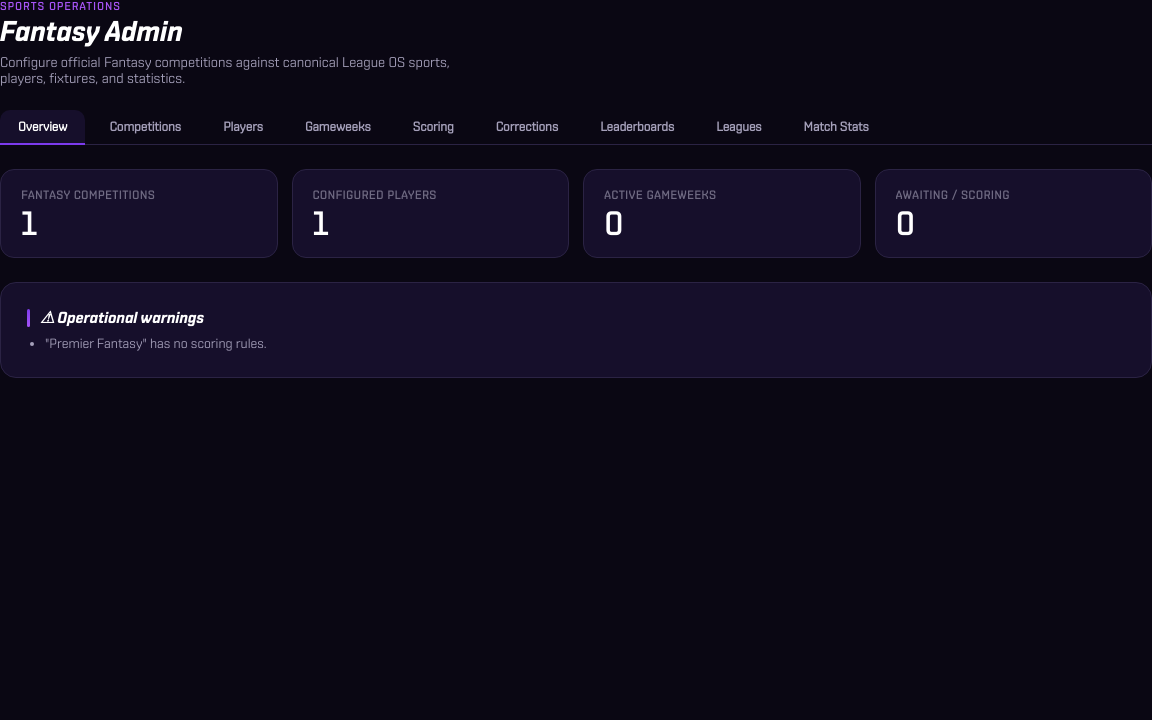
Test: FantasyAdminPage — enable/disable competition › quick-toggle enables a disabled competition
Step 1. Click the button "Competitions" → (145, 127), box [91,110,199,145]
(page scrolled)
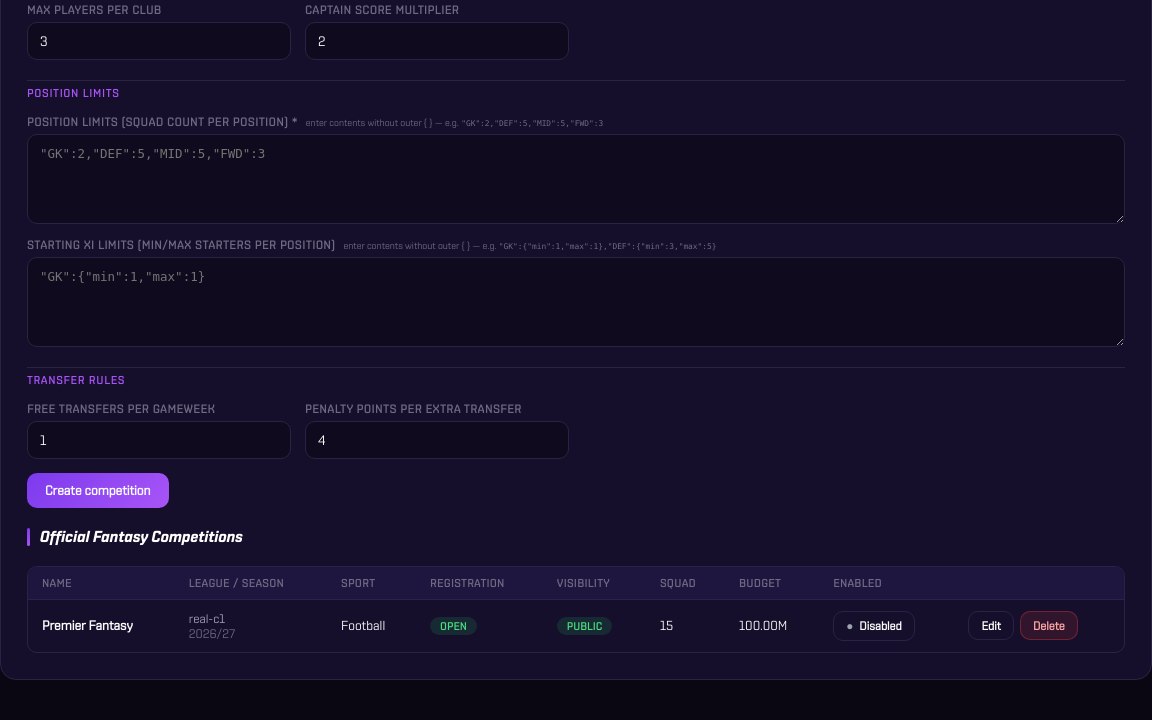
Step 2. Click the button with aria-label "Enable competition" → (874, 626), box [833,611,915,641]
(page scrolled)
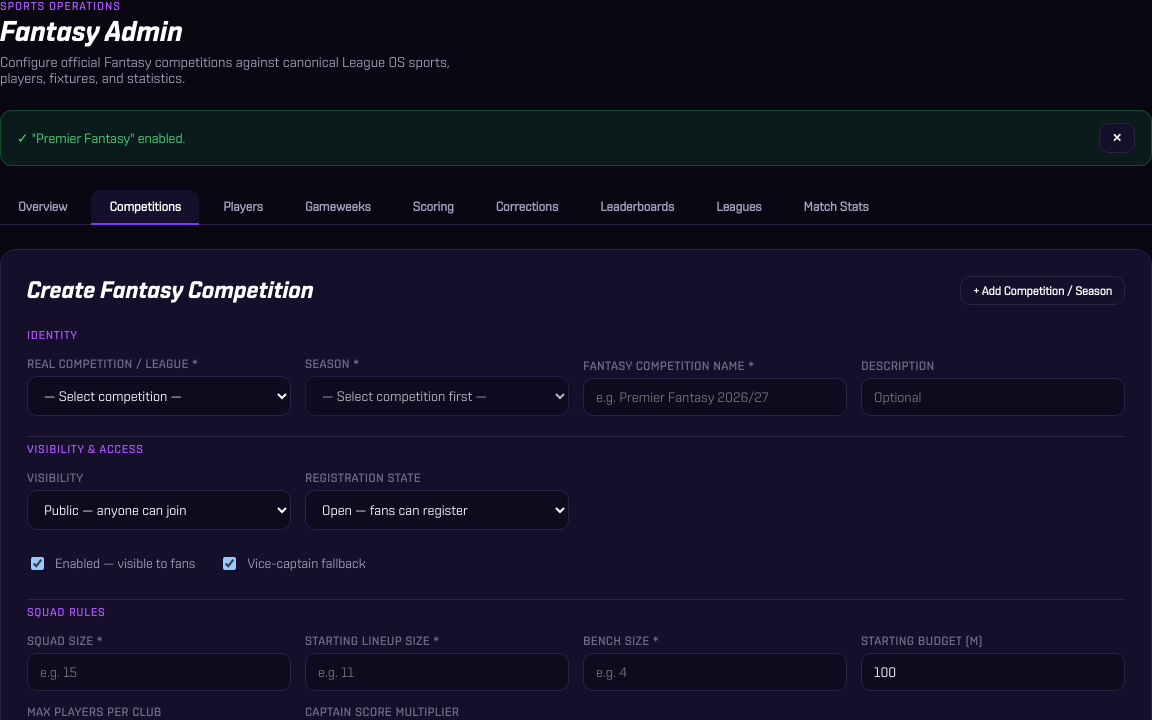
Check: the message shows "enabled", box [32,130,185,146]
